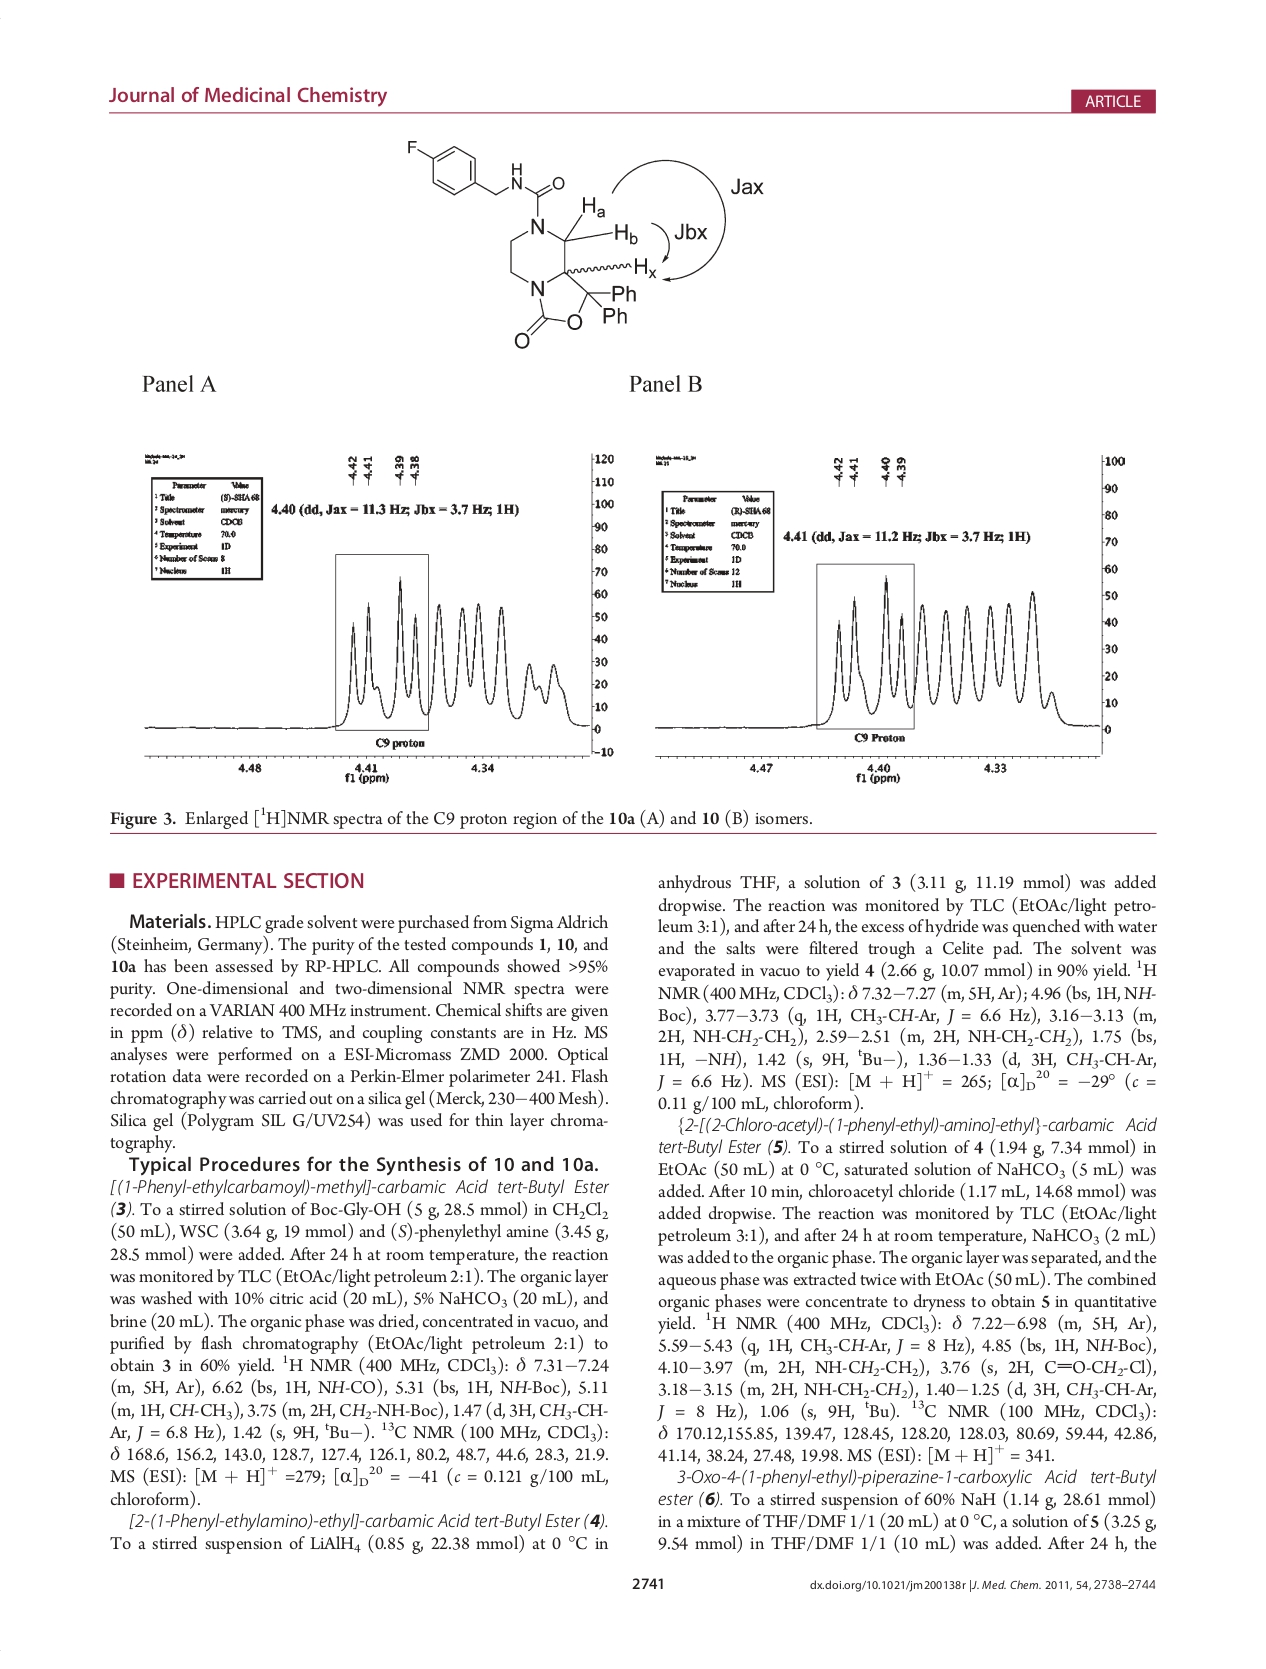exist_molecular: (399, 136, 664, 351)
